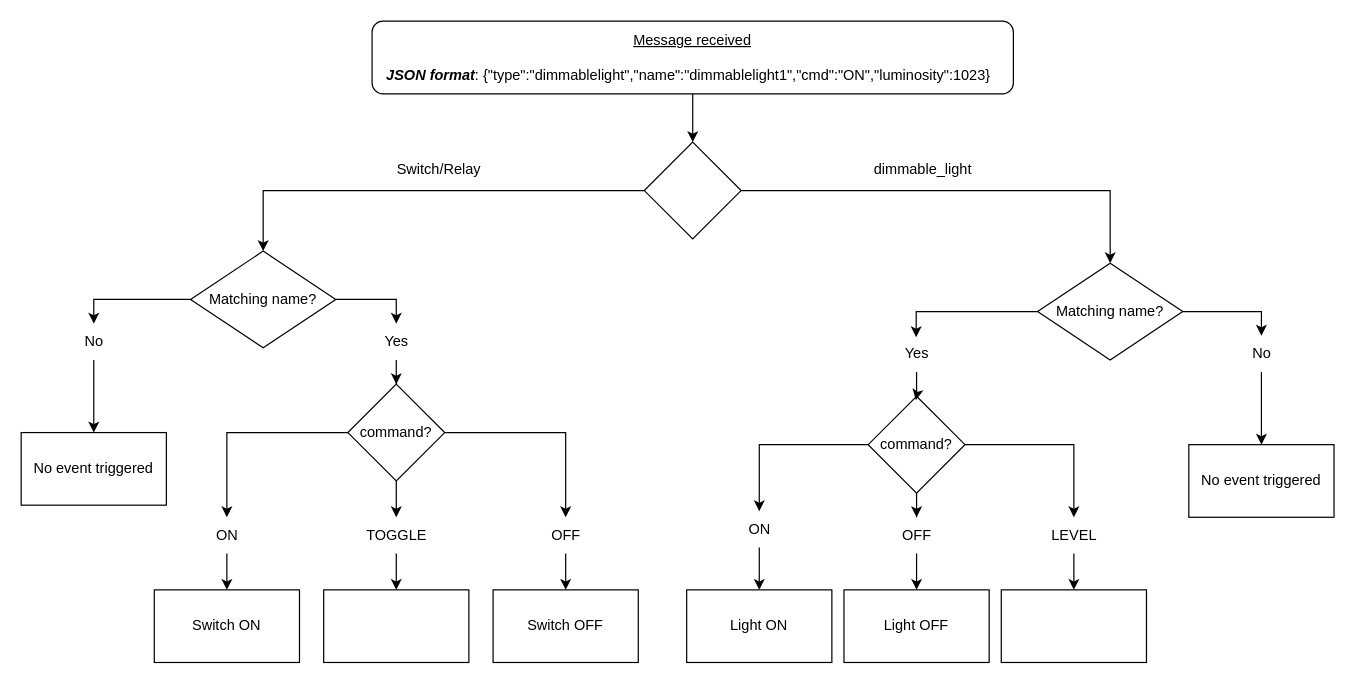
Image size: 1355x684. Some labels were removed from this diagram. Each missing label, with the centre of its shape:
Light ON Brightness = "Luminosity " value: pixel 1073 625
Switch TOGGLE: pixel 395 625
Type?: pixel 692 190
